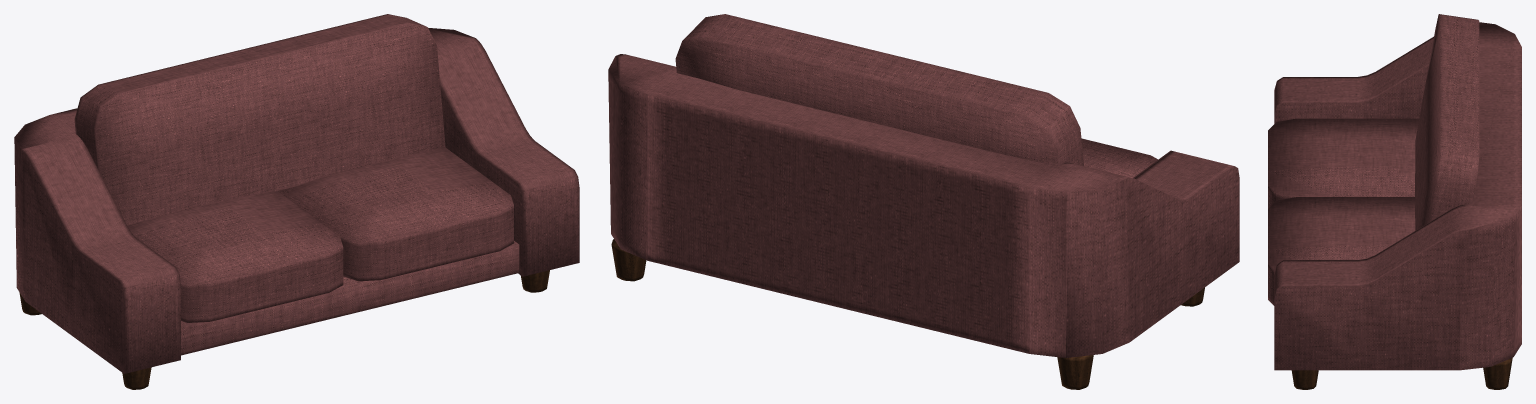
The model's file is sofa.fbx.
3 renders of one model, left to right at view 1: azimuth 30°, elevation 25°; view 2: azimuth 150°, elevation 25°; view 3: azimuth 270°, elevation 25°, orthographic. The views are drawn at different scales.
Visible parts, largest first — view 1: Cushion.003, Base.002, Cushion.002, Cushion.001, Base.001, Leg.001, Leg.002; view 2: Base.002, Cushion.003, Cushion.001, Leg.003, Leg.004; view 3: Base.002, Cushion.001, Cushion.003, Cushion.002, Leg.004, Leg.002.
Part boxes in pixels (bbox=[...]): Cushion.003: bbox=[74, 14, 445, 225]; Base.002: bbox=[14, 28, 579, 373]; Cushion.002: bbox=[278, 147, 513, 281]; Cushion.001: bbox=[127, 191, 343, 322]; Base.001: bbox=[181, 241, 519, 355]; Leg.001: bbox=[122, 367, 151, 389]; Leg.002: bbox=[520, 270, 549, 292]; Base.002: bbox=[608, 54, 1239, 357]; Cushion.003: bbox=[675, 14, 1083, 165]; Cushion.001: bbox=[1081, 138, 1157, 177]; Leg.003: bbox=[1057, 355, 1093, 389]; Leg.004: bbox=[611, 239, 646, 281]; Base.002: bbox=[1274, 22, 1521, 370]; Cushion.001: bbox=[1268, 118, 1419, 208]; Cushion.003: bbox=[1415, 14, 1479, 230]; Cushion.002: bbox=[1268, 197, 1415, 305]; Leg.004: bbox=[1483, 358, 1512, 389]; Leg.002: bbox=[1291, 370, 1318, 389].
Size of the model in its own units: 80 by 37.82 by 41.
2 materials, 2 textured.
